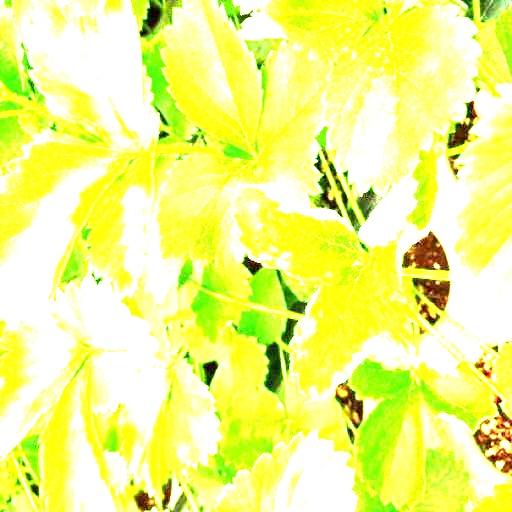Powdery Mildew Leaf: (288, 249, 420, 404), (445, 82, 511, 315), (84, 103, 159, 300), (229, 183, 364, 289), (213, 429, 358, 511), (358, 142, 448, 267), (417, 354, 500, 435)
